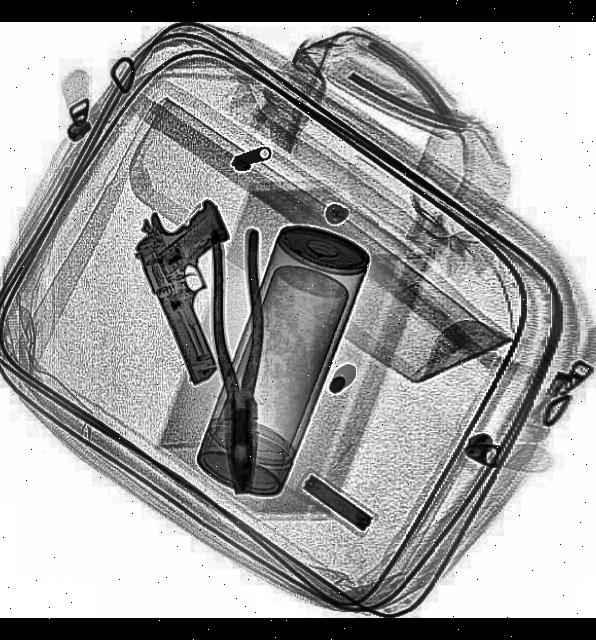Gun: (125, 189, 280, 389)
Pliers: (208, 230, 274, 496)
